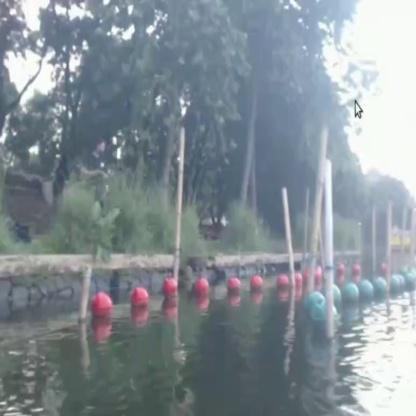green_buoy: (308, 295, 328, 326), (358, 276, 372, 306), (373, 272, 387, 298), (344, 282, 357, 309), (390, 272, 400, 296), (404, 270, 414, 290)
red_buoy: (90, 293, 112, 325), (164, 274, 180, 308), (128, 286, 147, 314), (188, 280, 210, 302), (249, 271, 264, 296), (228, 274, 242, 300), (276, 274, 290, 294), (294, 272, 302, 288), (338, 261, 344, 277), (316, 266, 321, 284), (351, 264, 359, 275)
